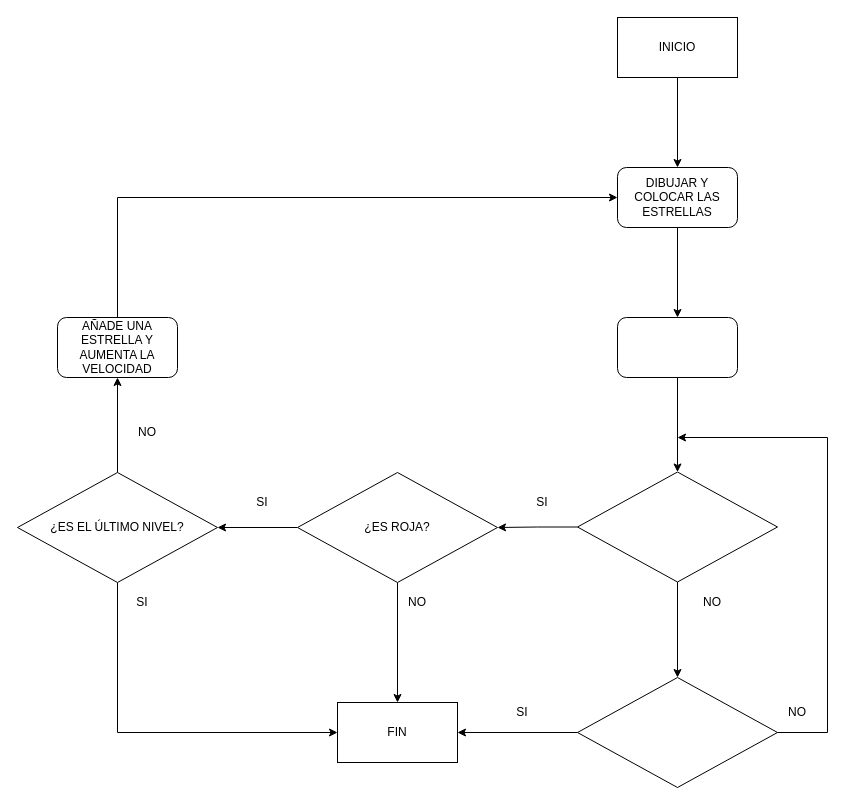
Some shapes in this 853 by 805 pixel diagram are drawn without their labels. Here are the shapes that lost their labels. From the top down, the centre of each, then its label:
point (677, 347): ANIMAR LAS ESTRELLAS
point (677, 526): ¿HEMOS HECHO CLICK EN UNA ESTRELLA?
point (677, 732): ¿HA LLEGADO LA ESTRELLA AL FINAL DE LA PANTALLA?
